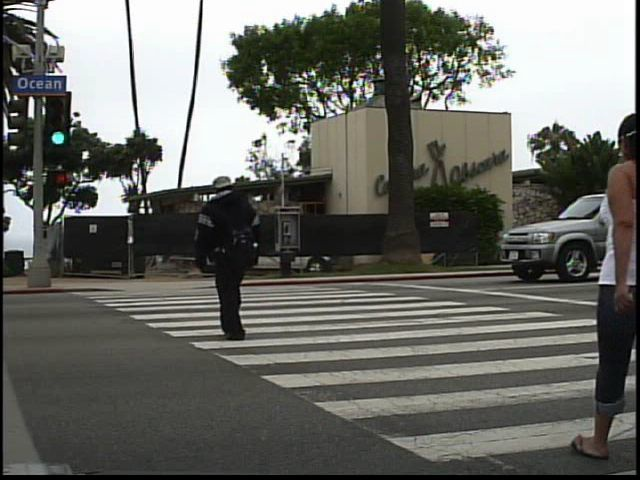person: (189, 165, 279, 352)
